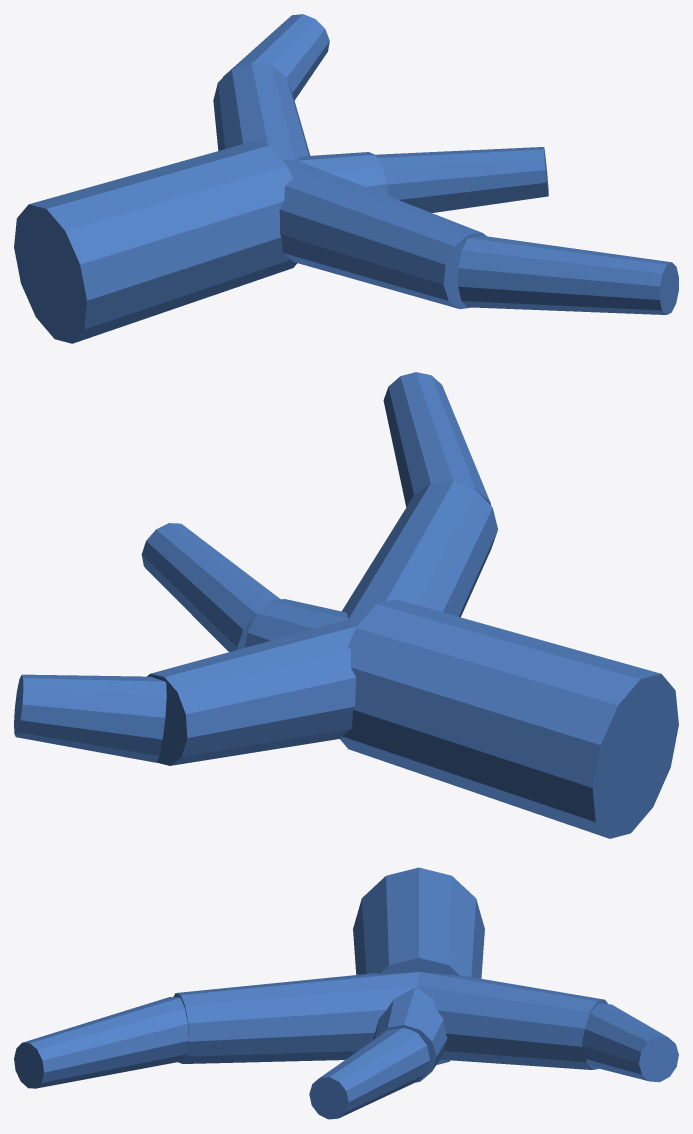
The model's file is renal_veins.glb.
3 views of the same model, one above another, from view 1: azimuth 30°, elevation 25°; view 2: azimuth 150°, elevation 25°; view 3: azimuth 270°, elevation 25° (orthographic). The views are drawn at different scales.
Parts seen in each view (by area): view 1: geometry_0; view 2: geometry_0; view 3: geometry_0.
Part boxes in pixels (box(x1,y1,x2,y2)): geometry_0: box(14, 14, 678, 343); geometry_0: box(14, 372, 678, 838); geometry_0: box(14, 867, 678, 1119).
Size of the model in its own units: 32.01 by 9.38 by 44.34.
